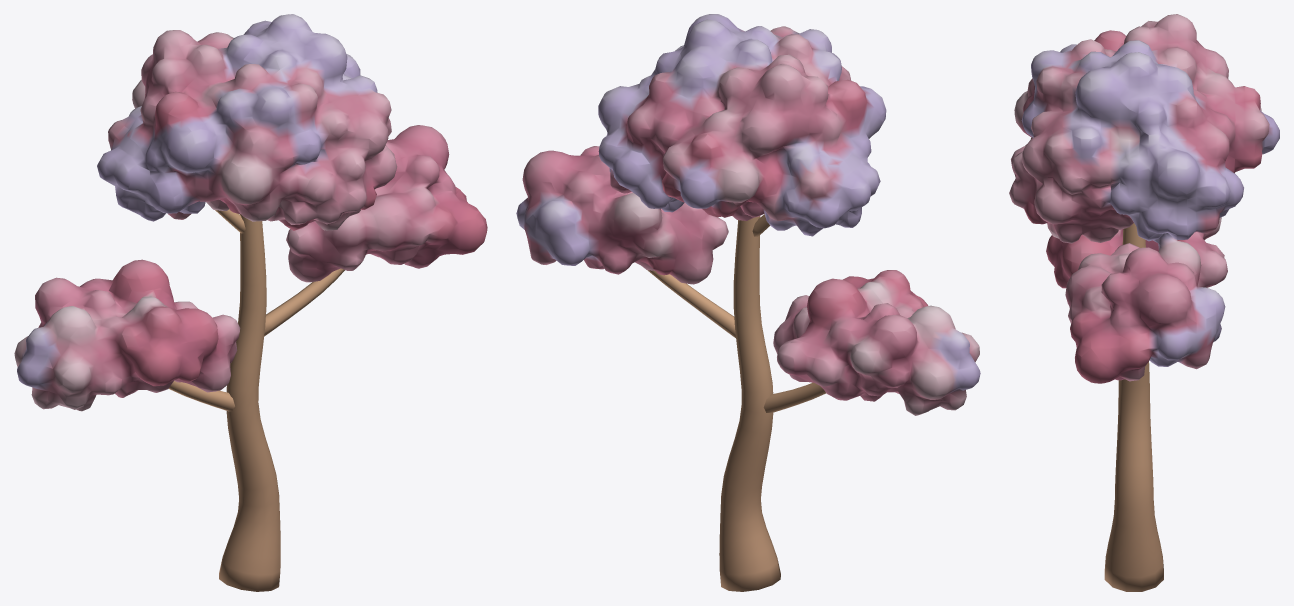
The model's file is blossom-tree-b.glb.
The picture shows the model from 3 angles, left to right: view 1: azimuth 30°, elevation 25°; view 2: azimuth 150°, elevation 25°; view 3: azimuth 270°, elevation 25°; orthographic projection. The views are drawn at different scales.
Visible parts, largest first — view 1: blossom-tree-b; view 2: blossom-tree-b; view 3: blossom-tree-b.
Boxes of the visible parts, <box> form: blossom-tree-b: <box>14,14,487,591</box>; blossom-tree-b: <box>516,14,980,591</box>; blossom-tree-b: <box>1009,14,1279,591</box>.
Bounding box in the file's own units: 5.03 × 6 × 2.7.
